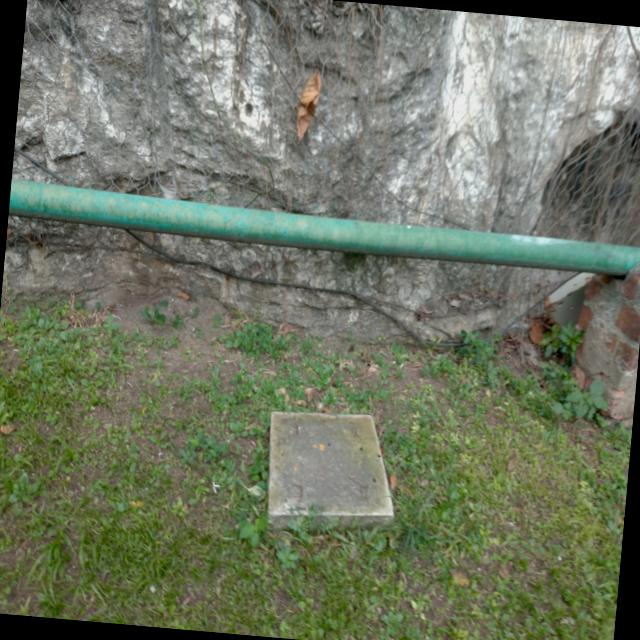gas: (9, 180, 629, 277)
